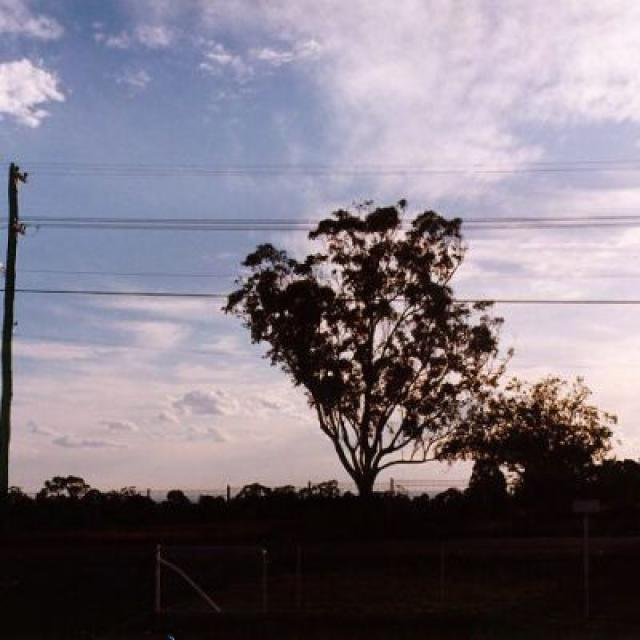Cs: (87, 1, 640, 170)
